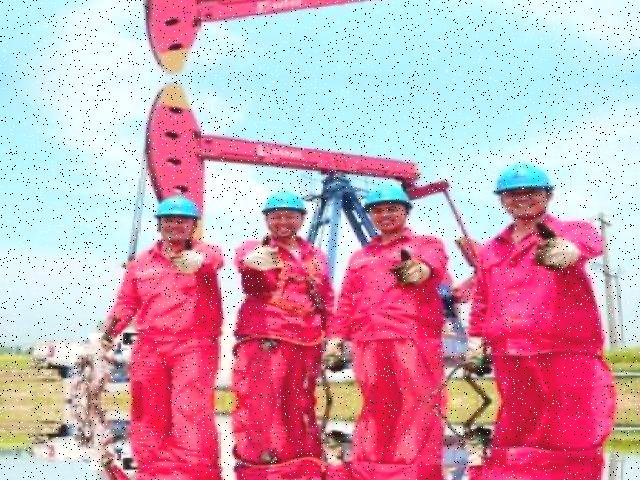Helmet: (486, 158, 554, 200), (354, 177, 415, 214), (144, 192, 206, 228), (256, 185, 309, 223)
